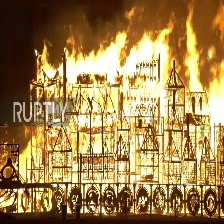fire: (19, 4, 223, 216)
